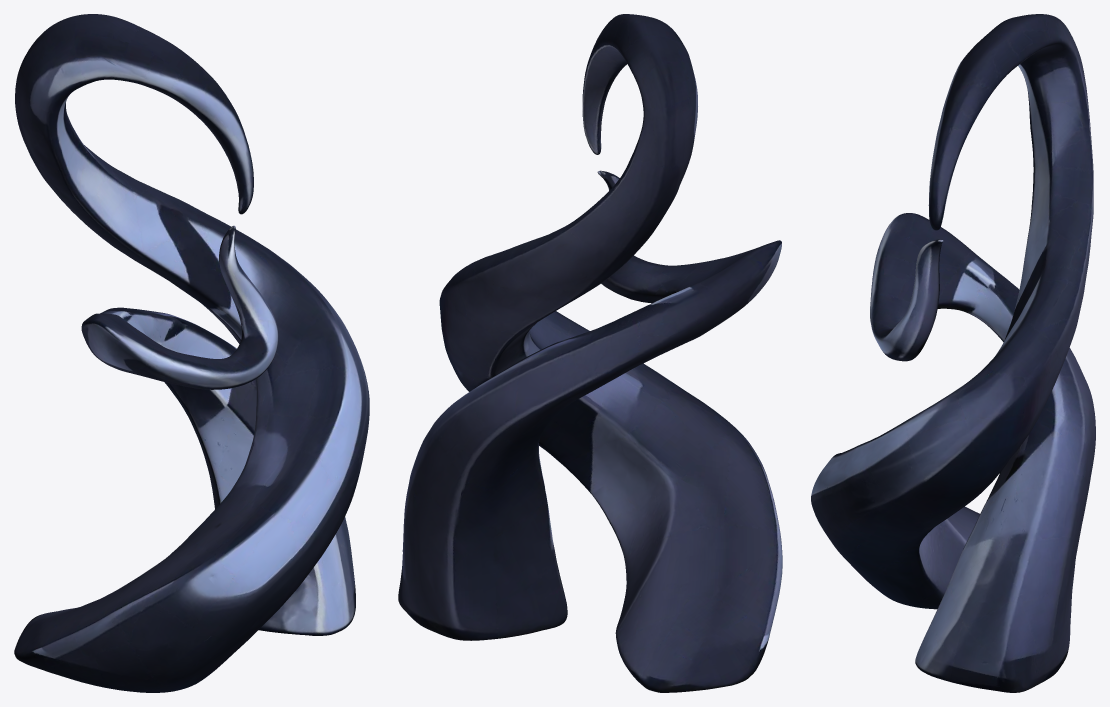
The model's file is ribbon.opt.glb.
3 views of the same model, side by side, from view 1: azimuth 30°, elevation 25°; view 2: azimuth 150°, elevation 25°; view 3: azimuth 270°, elevation 25° (orthographic). The views are drawn at different scales.
Bounding box in the file's own units: 1.07 × 1.9 × 0.8631.
Materials: 1 (1 with a texture image).
